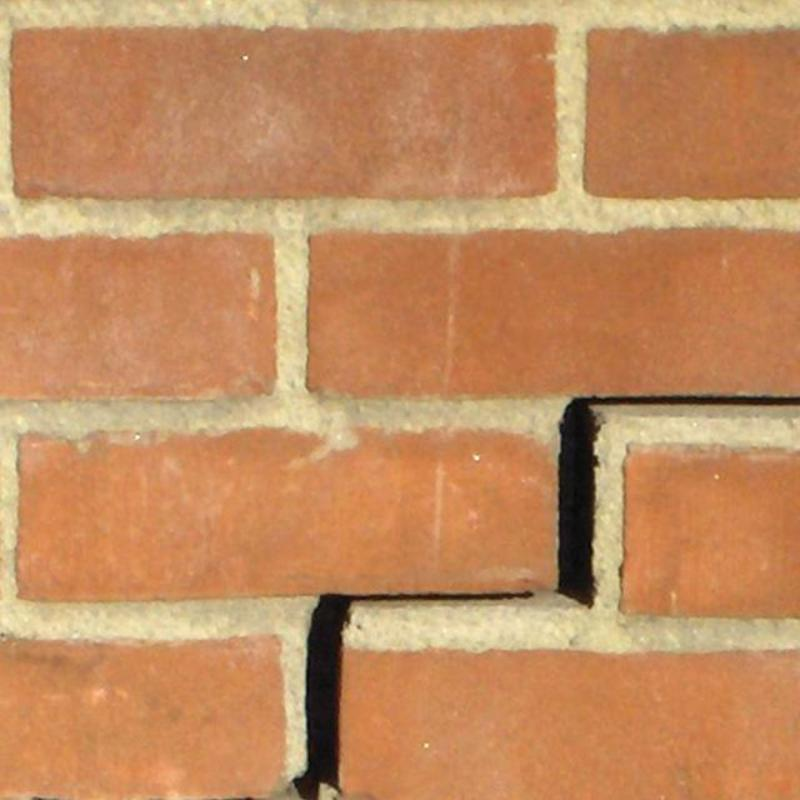pothole: (556, 395, 800, 605), (294, 595, 531, 800)
